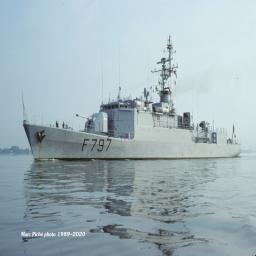Fragata: (22, 33, 243, 167)
